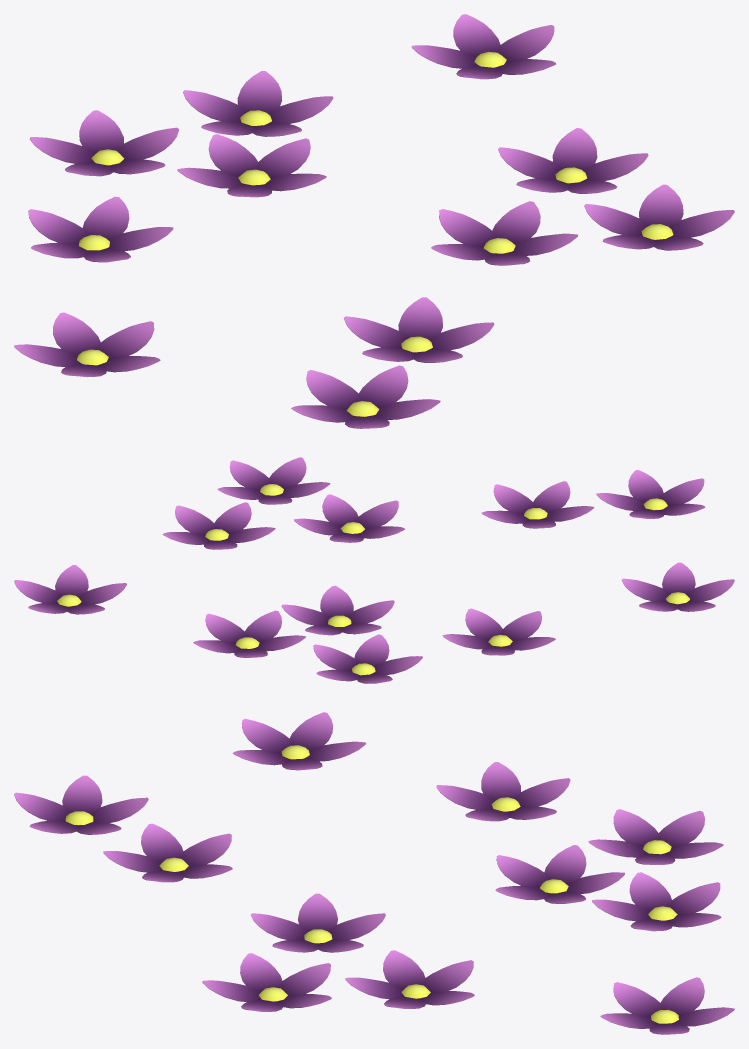
Rendered from Purple_Patch.fbx.
3 views of the same model, one above another, from view 1: azimuth 30°, elevation 25°; view 2: azimuth 150°, elevation 25°; view 3: azimuth 270°, elevation 25° (orthographic). The views are drawn at different scales.
Visible parts, largest first — view 1: pasted__pasted__Flower8, pasted__pasted__Flower14, pasted__pasted__Flower11, pasted__pasted__Flower16, pasted__pasted__Flower9, pasted__pasted__Flower10, pasted__pasted__Flower13, pasted__pasted__Flower12, pasted__pasted__Flower15, pasted__pasted__Flower7, pasted__pasted__Flower17; view 2: pasted__pasted__Flower17, pasted__pasted__Flower13, pasted__pasted__Flower9, pasted__pasted__Flower7, pasted__pasted__Flower16, pasted__pasted__Flower11, pasted__pasted__Flower15, pasted__pasted__Flower8, pasted__pasted__Flower14, pasted__pasted__Flower12, pasted__pasted__Flower10; view 3: pasted__pasted__Flower7, pasted__pasted__Flower9, pasted__pasted__Flower15, pasted__pasted__Flower13, pasted__pasted__Flower14, pasted__pasted__Flower16, pasted__pasted__Flower11, pasted__pasted__Flower10, pasted__pasted__Flower8, pasted__pasted__Flower12, pasted__pasted__Flower17.
Boxes of the visible parts, left/top/right/bottom form: pasted__pasted__Flower8: left=177, top=134, right=326, bottom=197; pasted__pasted__Flower14: left=291, top=365, right=440, bottom=428; pasted__pasted__Flower11: left=431, top=201, right=577, bottom=265; pasted__pasted__Flower16: left=28, top=196, right=173, bottom=262; pasted__pasted__Flower9: left=183, top=71, right=333, bottom=136; pasted__pasted__Flower10: left=584, top=184, right=734, bottom=250; pasted__pasted__Flower13: left=411, top=14, right=555, bottom=79; pasted__pasted__Flower12: left=498, top=128, right=648, bottom=193; pasted__pasted__Flower15: left=344, top=297, right=494, bottom=362; pasted__pasted__Flower7: left=30, top=110, right=179, bottom=176; pasted__pasted__Flower17: left=14, top=312, right=160, bottom=377; pasted__pasted__Flower17: left=621, top=562, right=734, bottom=611; pasted__pasted__Flower13: left=14, top=565, right=126, bottom=614; pasted__pasted__Flower9: left=193, top=610, right=305, bottom=657; pasted__pasted__Flower7: left=313, top=634, right=422, bottom=683; pasted__pasted__Flower16: left=442, top=608, right=555, bottom=655; pasted__pasted__Flower11: left=293, top=494, right=404, bottom=542; pasted__pasted__Flower15: left=481, top=481, right=594, bottom=528; pasted__pasted__Flower8: left=281, top=585, right=394, bottom=635; pasted__pasted__Flower14: left=596, top=470, right=705, bottom=518; pasted__pasted__Flower12: left=162, top=502, right=275, bottom=549; pasted__pasted__Flower10: left=217, top=457, right=330, bottom=504; pasted__pasted__Flower7: left=588, top=809, right=723, bottom=864; pasted__pasted__Flower9: left=592, top=872, right=721, bottom=931; pasted__pasted__Flower15: left=103, top=823, right=232, bottom=882; pasted__pasted__Flower13: left=600, top=977, right=734, bottom=1034; pasted__pasted__Flower14: left=14, top=775, right=148, bottom=834; pasted__pasted__Flower16: left=436, top=762, right=570, bottom=821; pasted__pasted__Flower11: left=251, top=893, right=385, bottom=952; pasted__pasted__Flower10: left=202, top=953, right=331, bottom=1011; pasted__pasted__Flower8: left=495, top=845, right=624, bottom=903; pasted__pasted__Flower12: left=345, top=950, right=474, bottom=1008; pasted__pasted__Flower17: left=232, top=712, right=365, bottom=770.
Bounding box in the file's own units: 67.67 × 1.41 × 64.1.
